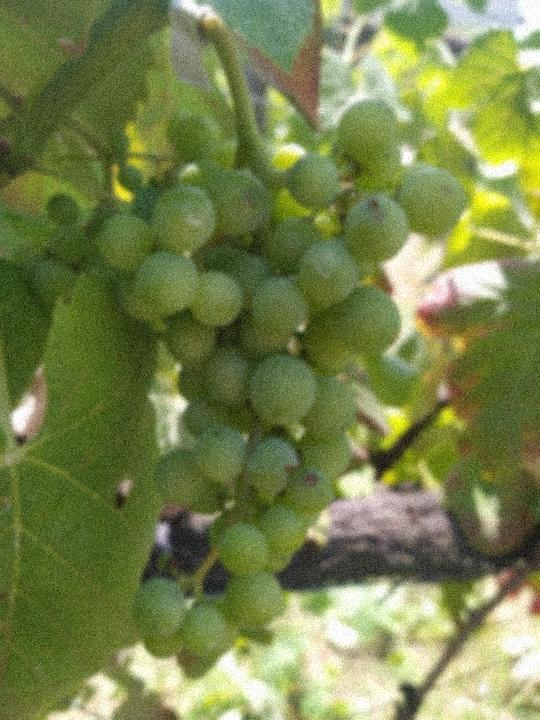grape: (93, 94, 474, 666)
